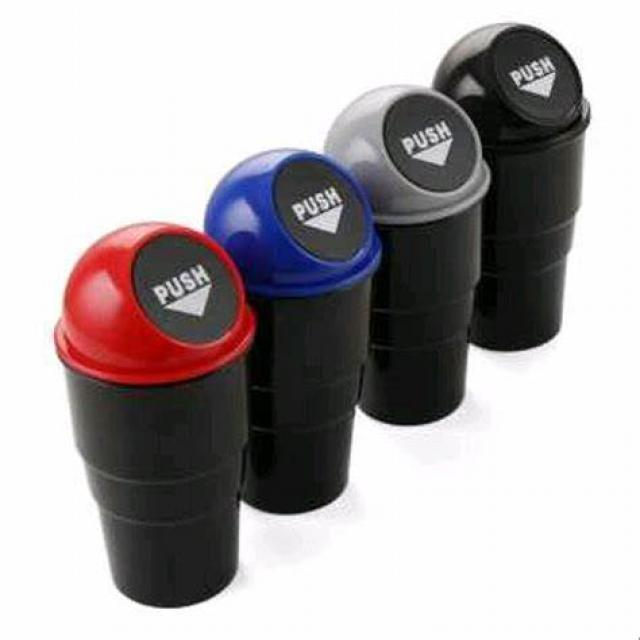garbage container: (45, 224, 258, 612), (214, 140, 382, 544), (431, 12, 601, 357), (330, 76, 482, 434)
